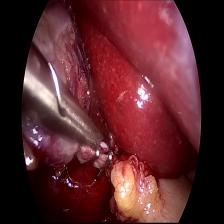Grasper: (19, 40, 108, 151)
